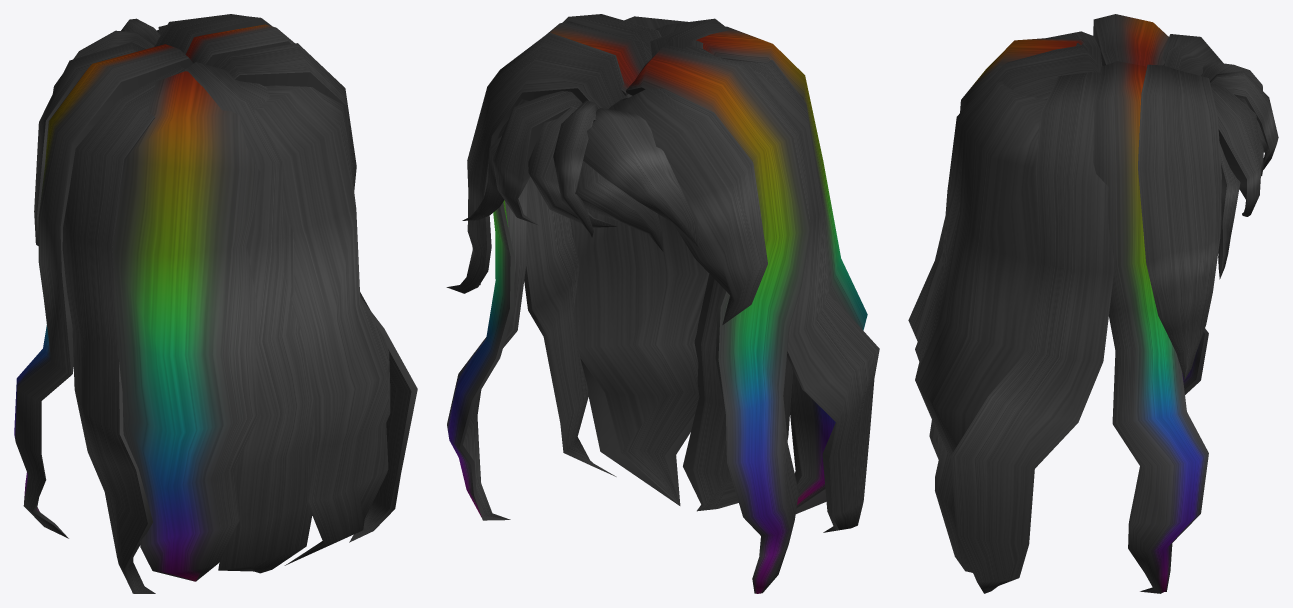
3 views of the same model, side by side, from view 1: azimuth 30°, elevation 25°; view 2: azimuth 150°, elevation 25°; view 3: azimuth 270°, elevation 25° (orthographic). The views are drawn at different scales.
Parts seen in each view (by area): view 1: geometry_0; view 2: geometry_0; view 3: geometry_0.
Boxes of the visible parts, left/top/right/bottom form: geometry_0: left=14, top=14, right=417, bottom=593; geometry_0: left=446, top=14, right=879, bottom=593; geometry_0: left=908, top=14, right=1278, bottom=593.
Size of the model in its own units: 1.71 by 2.5 by 1.68.
1 material, 1 textured.
